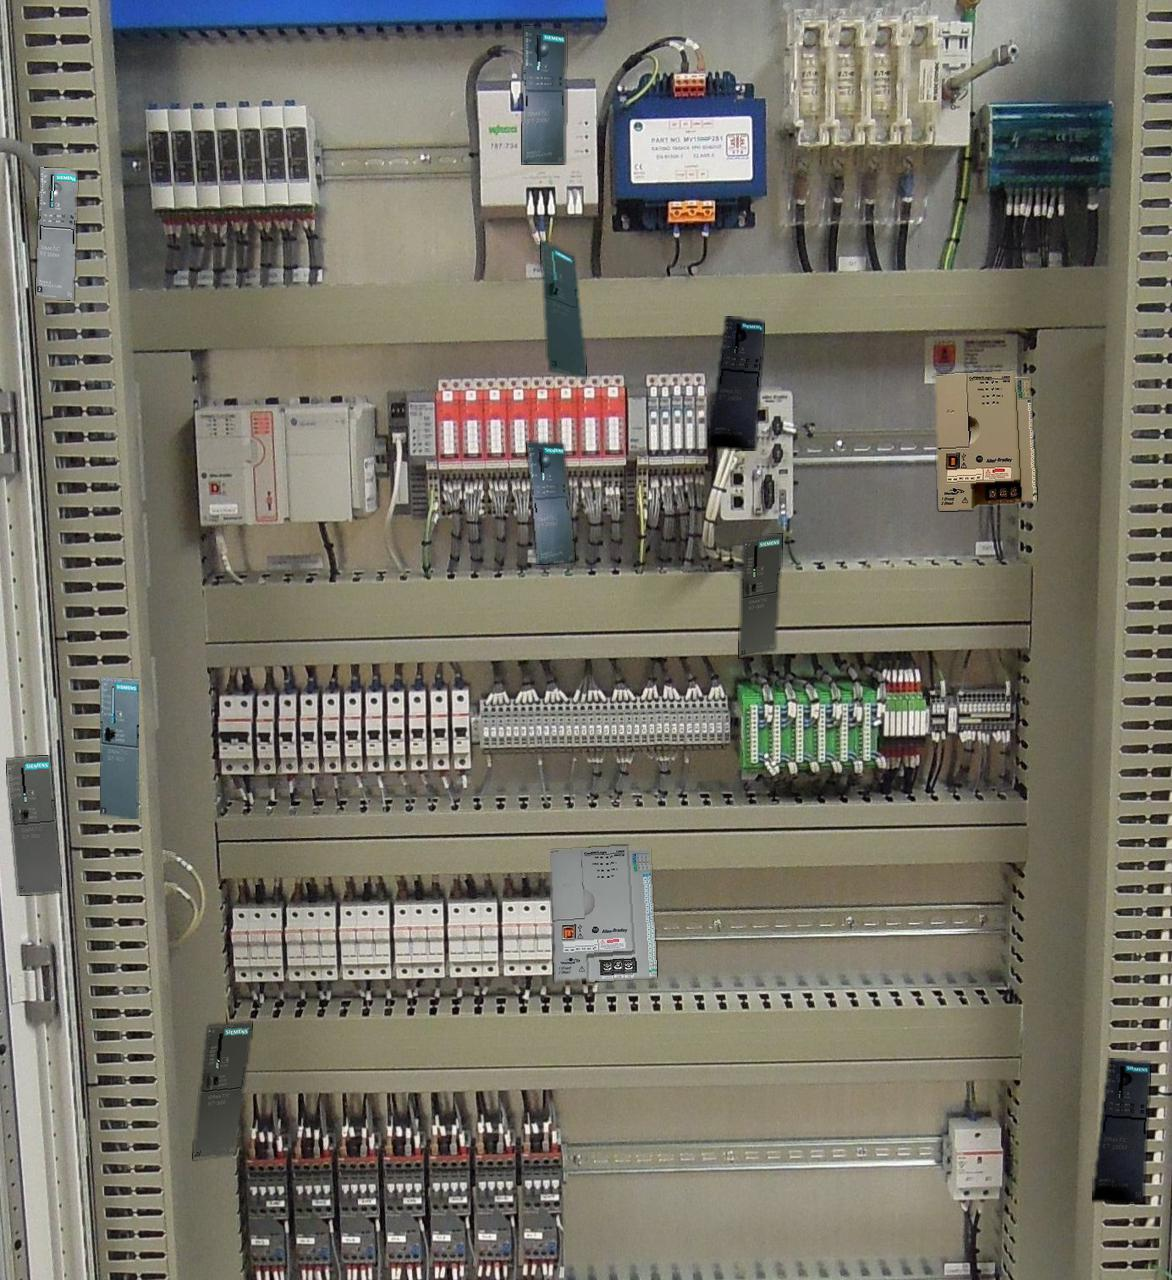AllenBradley: (550, 846, 656, 981), (934, 371, 1036, 510)
Siemens: (193, 1022, 251, 1158), (6, 755, 61, 895), (540, 239, 587, 377), (100, 677, 138, 818), (739, 534, 781, 657)
